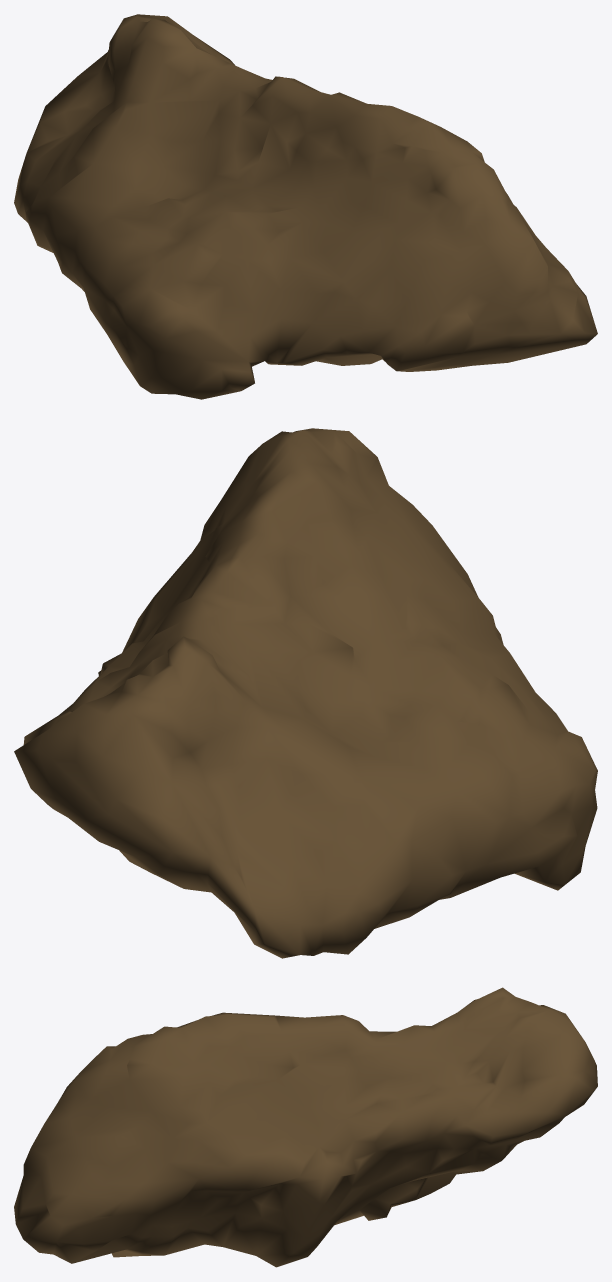
Rendered from BoulderSlab.gltf.
3 views of the same model, one above another, from view 1: azimuth 30°, elevation 25°; view 2: azimuth 150°, elevation 25°; view 3: azimuth 270°, elevation 25° (orthographic). The views are drawn at different scales.
Visible parts, largest first — view 1: lo; view 2: lo; view 3: lo.
Part boxes in pixels (x1,y1,x2,y2): lo: (14,14,597,399); lo: (14,428,597,958); lo: (14,987,597,1267).
Bounding box in the file's own units: 2.63 × 1.74 × 3.96.
